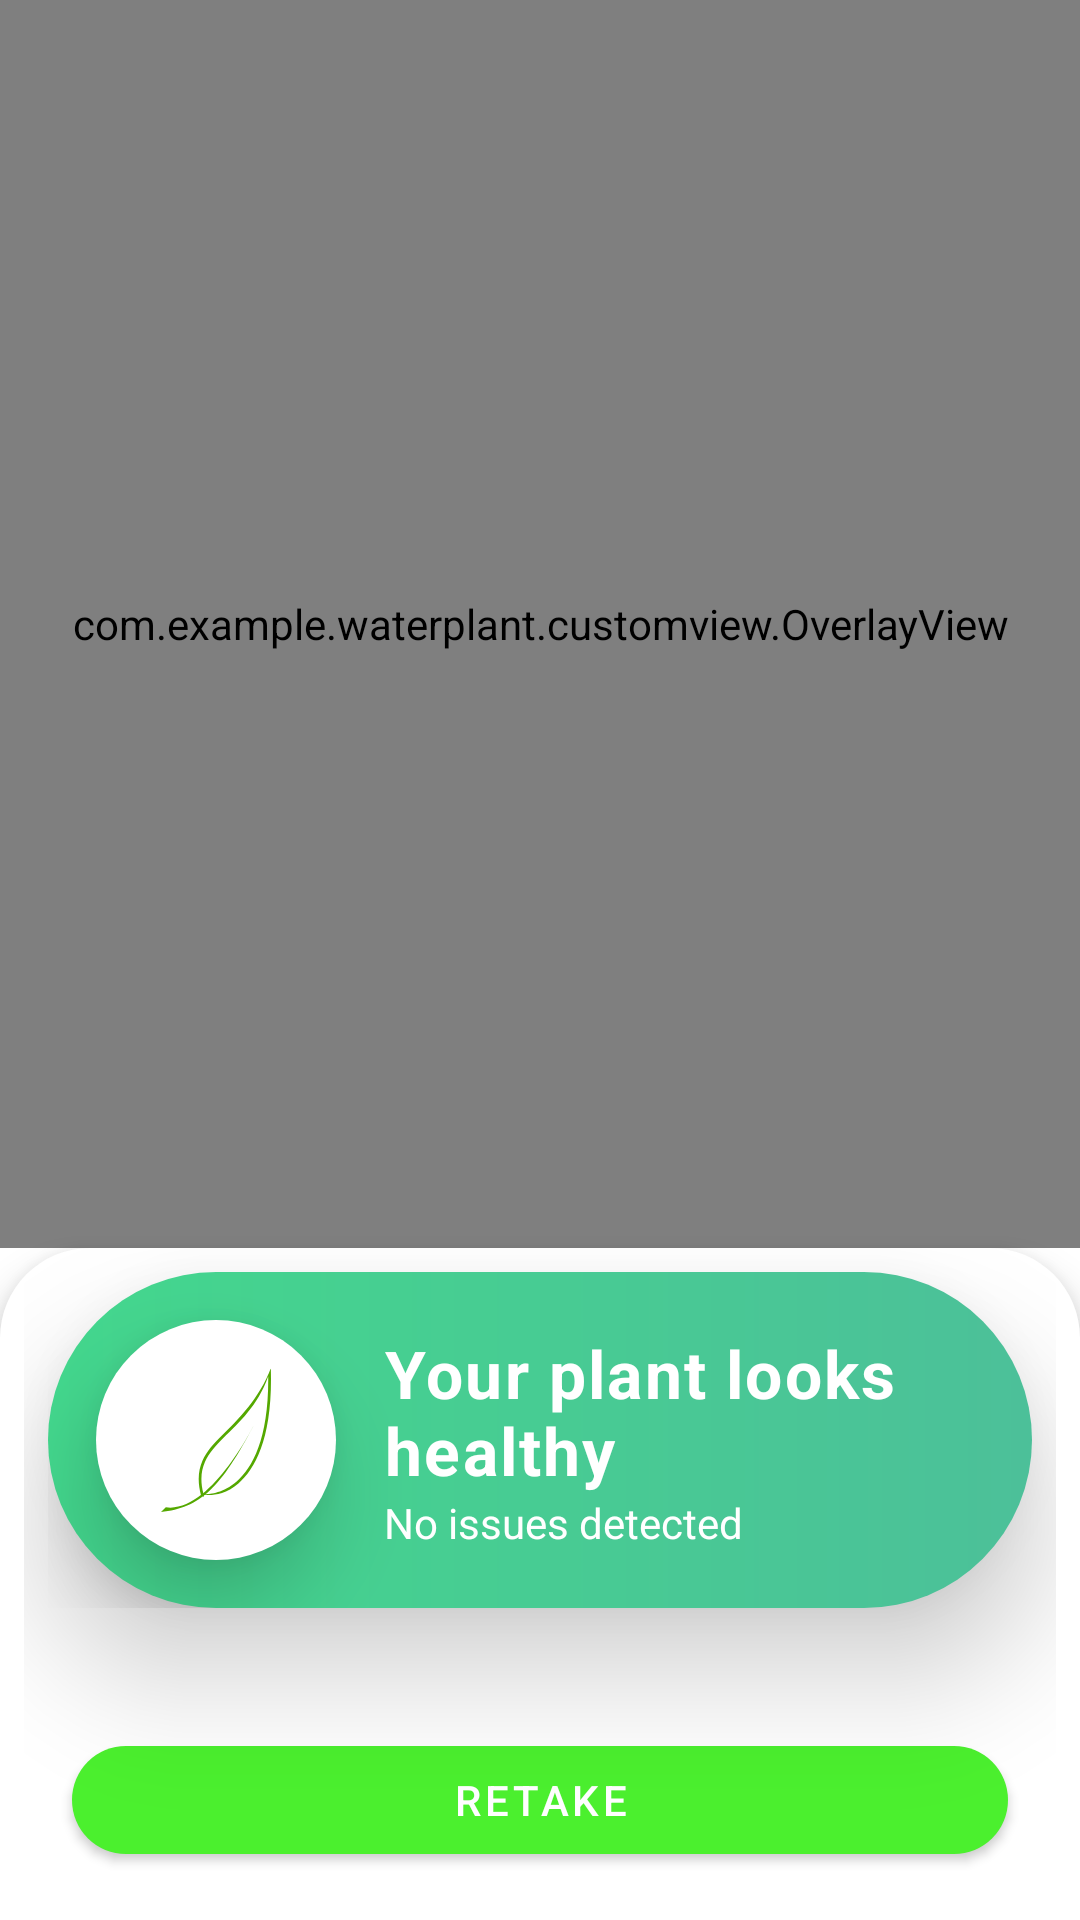

Icons on this 1080w x 1920h Android screen, each with its box as {"left": x1, "top": y1, "right": x2, "bottom": y2}:
leaf: {"left": 96, "top": 1320, "right": 336, "bottom": 1560}
